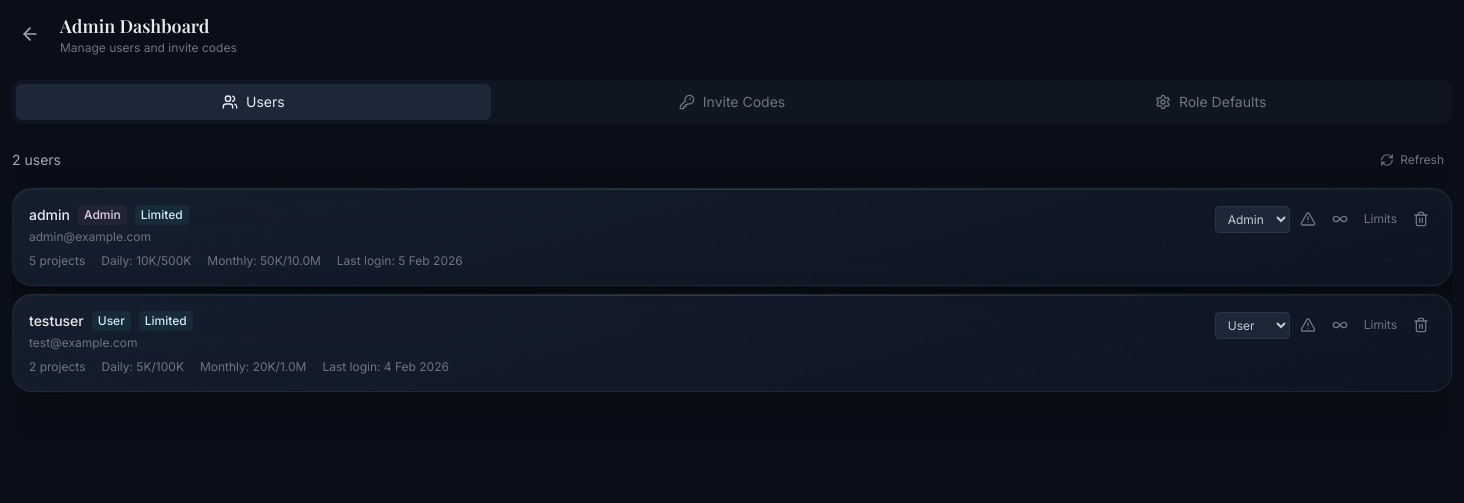
Scenario: AdminDashboard › cancels delete when cancel button clicked
This screenshot has width=1464, height=503.
Click the button titled "Delete user" at (1421, 325), box [1407,311,1435,339]
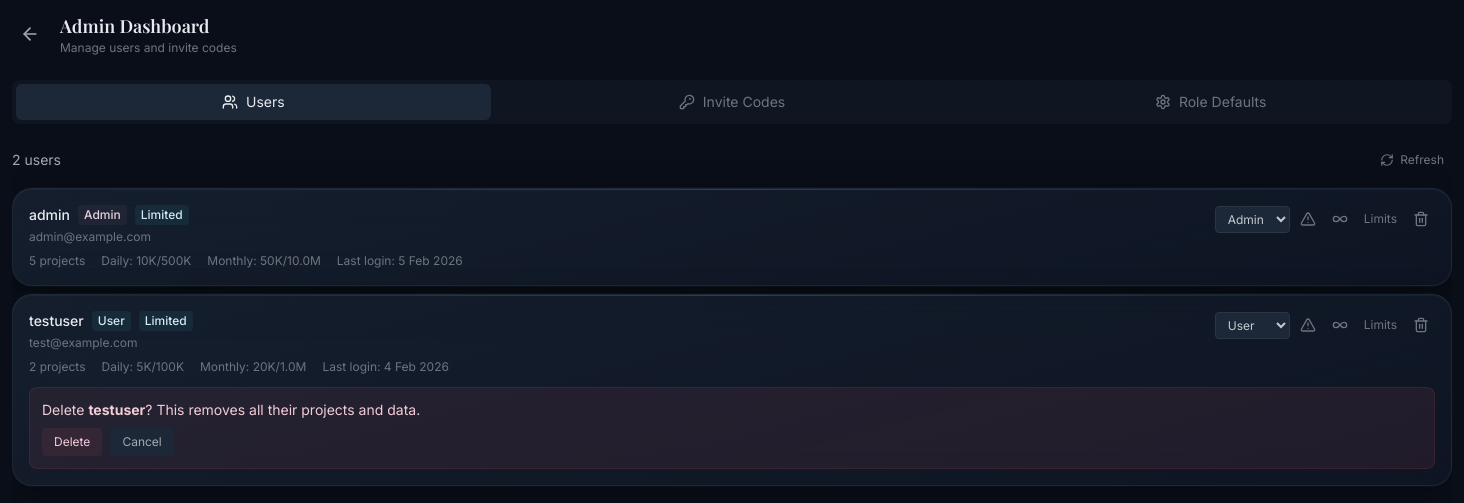
Click the button "Cancel" at (142, 442), box [110,428,174,456]
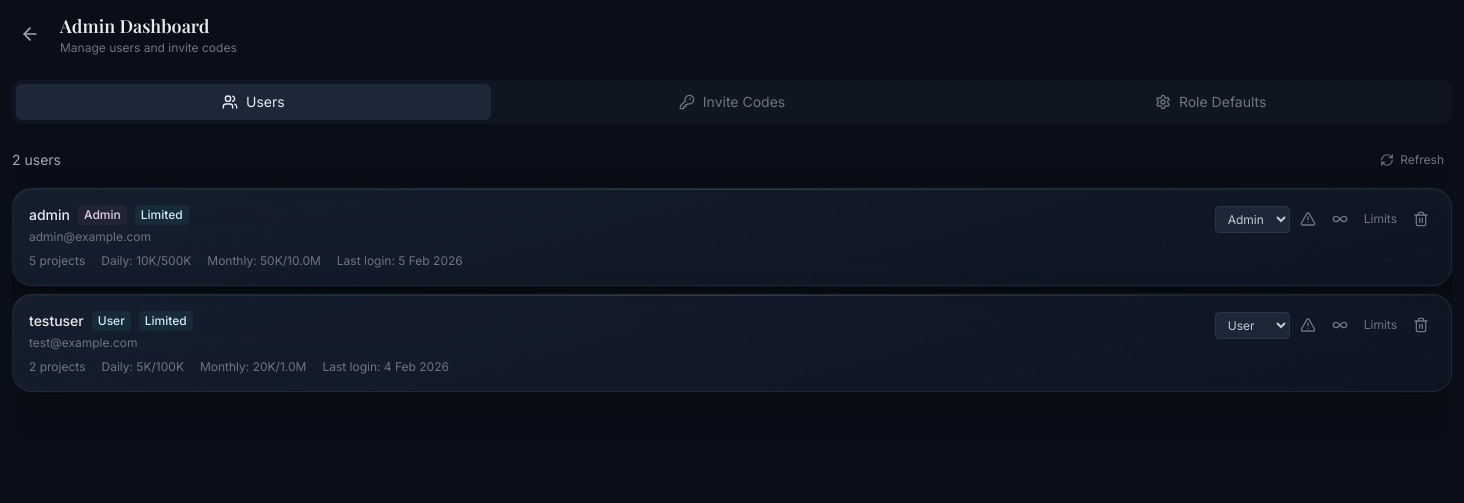
Expected: the text "This removes all their projects" is gone
